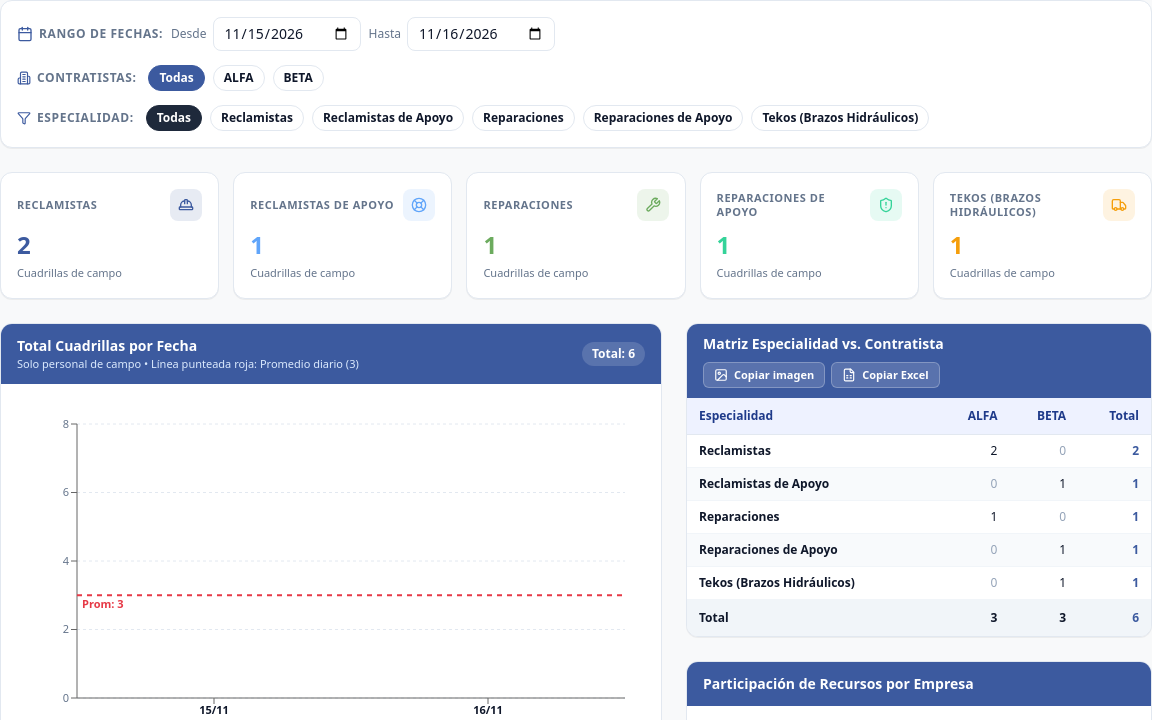
Test: ChartsTab (Admin Field Dashboard) › filters counts when clicking a contractor chip
Check: the text "Total: 6" is shown, box [582,342,645,366]
Click ALFA filter chip (button)
What coordinates should you click on to do the following:
click the button "ALFA"
I would click on:
 (239, 78)
Its box is [213,65,264,91].
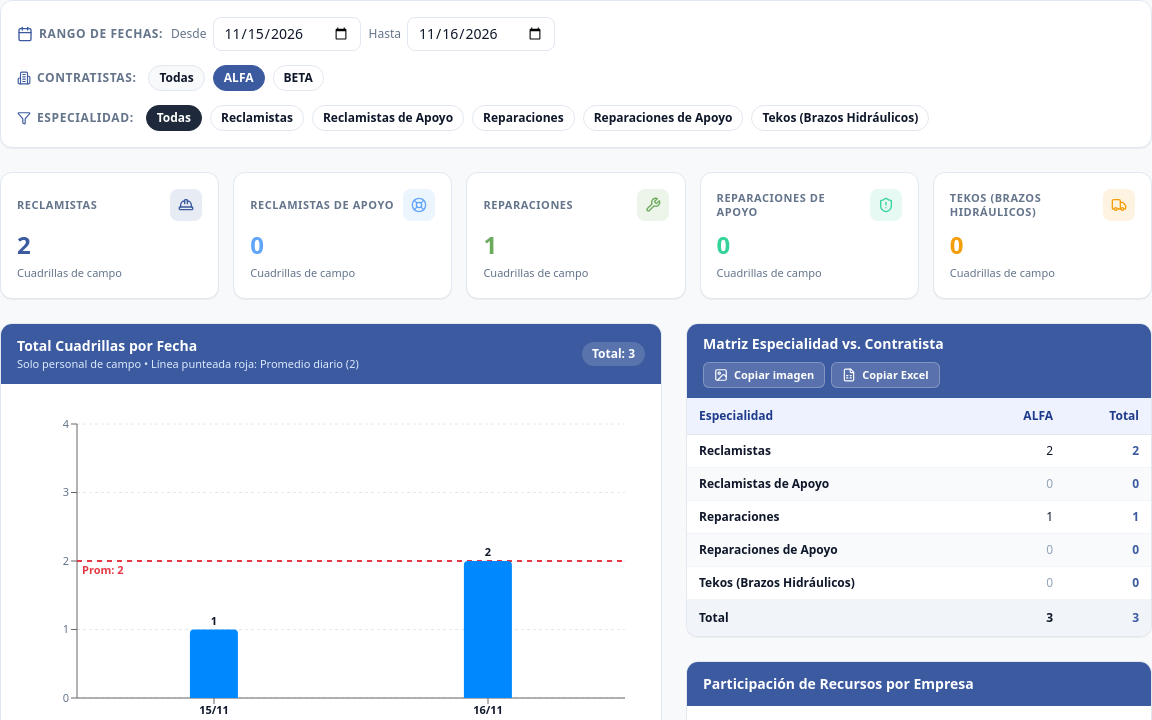
Check: the text "Total: 3" is shown, box [582,342,645,366]
